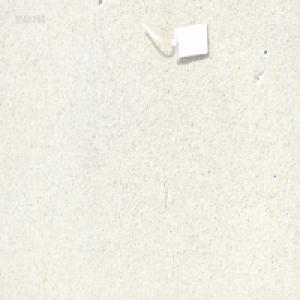LuggageTag: (137, 18, 210, 63)
